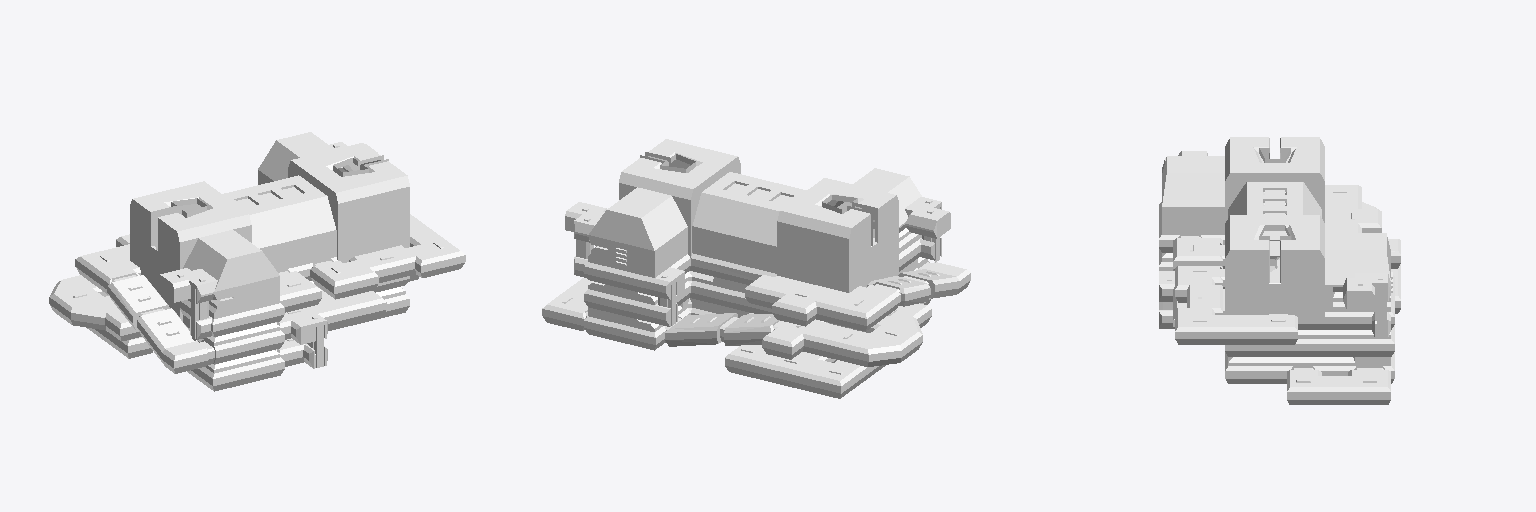
Rendered from prisoner.obj.
3 views of the same model, side by side, from view 1: azimuth 30°, elevation 25°; view 2: azimuth 150°, elevation 25°; view 3: azimuth 270°, elevation 25° (orthographic).
Parts seen in each view (by area): view 1: -000, -001; view 2: -000, -001; view 3: -000, -001.
Part boxes in pixels (x1,y1,x2,y2): -000: (73,140,465,391); -001: (49,132,464,373); -000: (562,152,950,393); -001: (542,139,970,398); -000: (1159,138,1400,399); -001: (1159,137,1400,404).
Size of the model in its own units: 59.94 by 23.47 by 37.08.